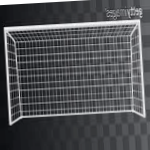goals: (3, 17, 150, 128)
